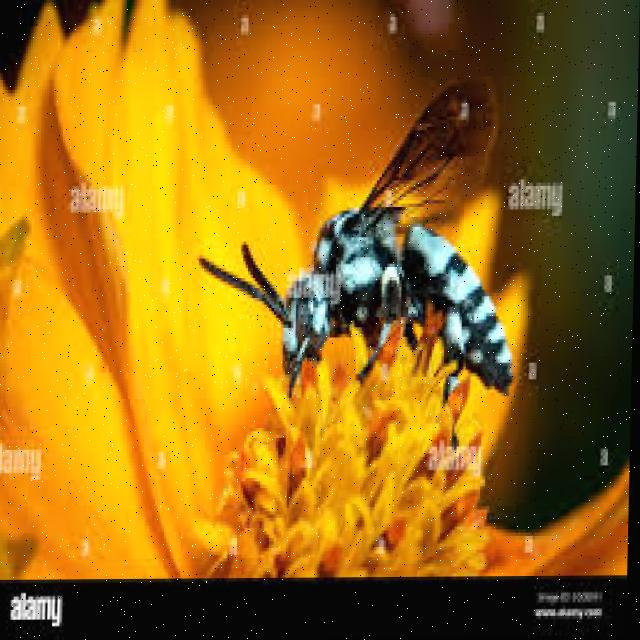Thyreus: (193, 55, 537, 439)
